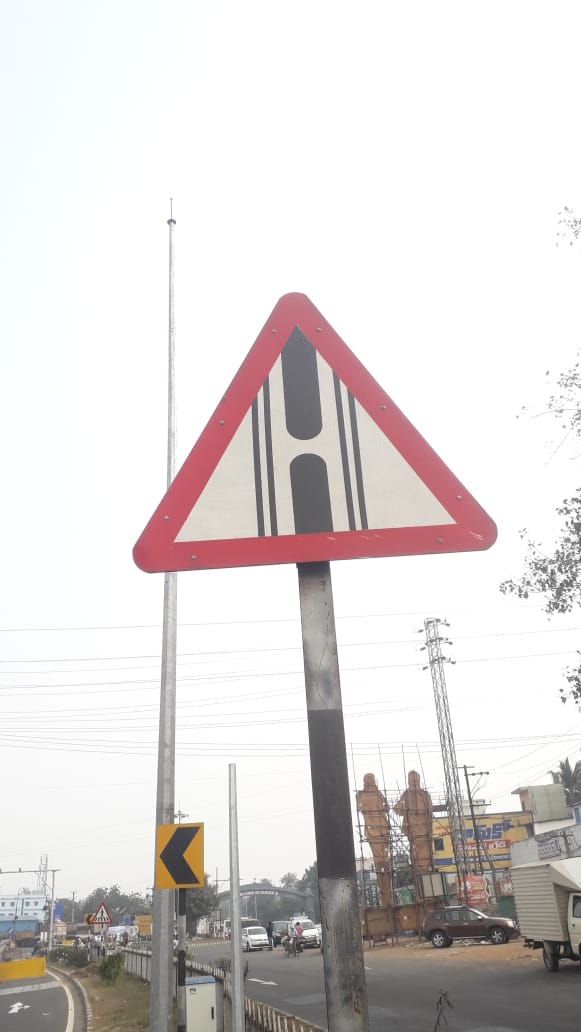highway go straight: (122, 243, 533, 620)
